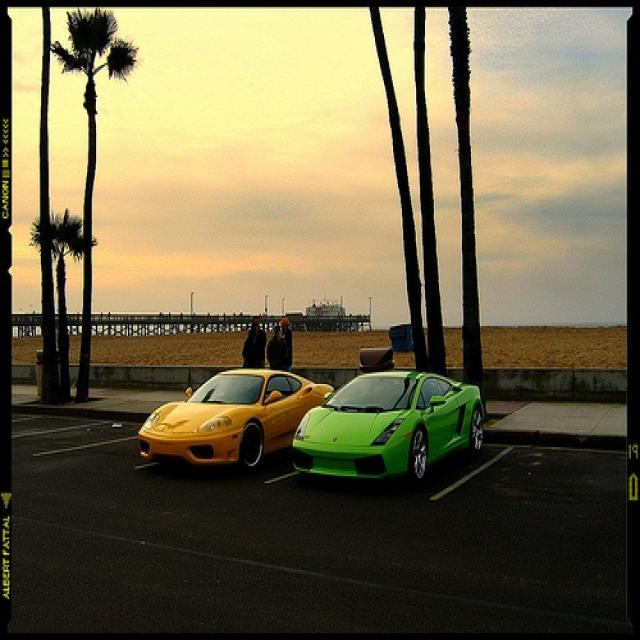car: (293, 364, 490, 484), (132, 358, 336, 473)
